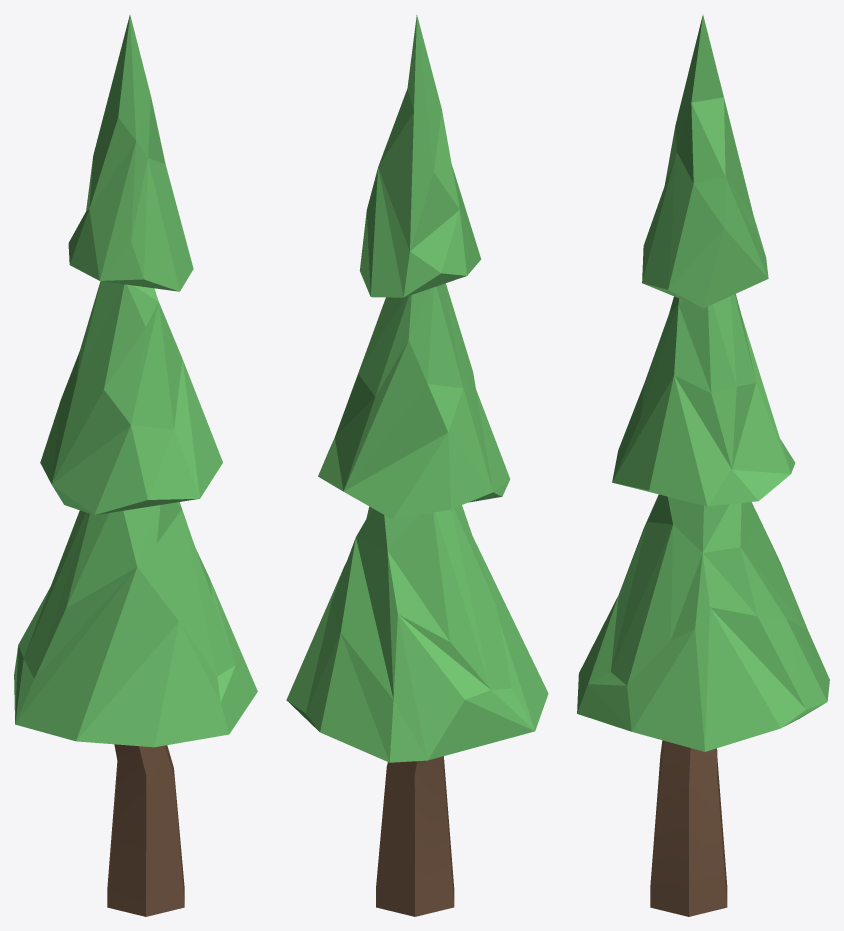
The model's file is Arbre_Long_3.fbx.
3 views of the same model, side by side, from view 1: azimuth 30°, elevation 25°; view 2: azimuth 150°, elevation 25°; view 3: azimuth 270°, elevation 25° (orthographic).
Parts seen in each view (by area): view 1: pCylinder6, pCylinder9; view 2: pCylinder6, pCylinder9; view 3: pCylinder6, pCylinder9.
Part boxes in pixels (left/top/right/bottom): pCylinder6: left=14, top=14, right=257, bottom=747; pCylinder9: left=107, top=744, right=184, bottom=916; pCylinder6: left=286, top=15, right=548, bottom=762; pCylinder9: left=376, top=756, right=454, bottom=916; pCylinder6: left=577, top=15, right=829, bottom=751; pCylinder9: left=650, top=740, right=727, bottom=916.
Size of the model in its own units: 1.4 by 5.1 by 1.33.
